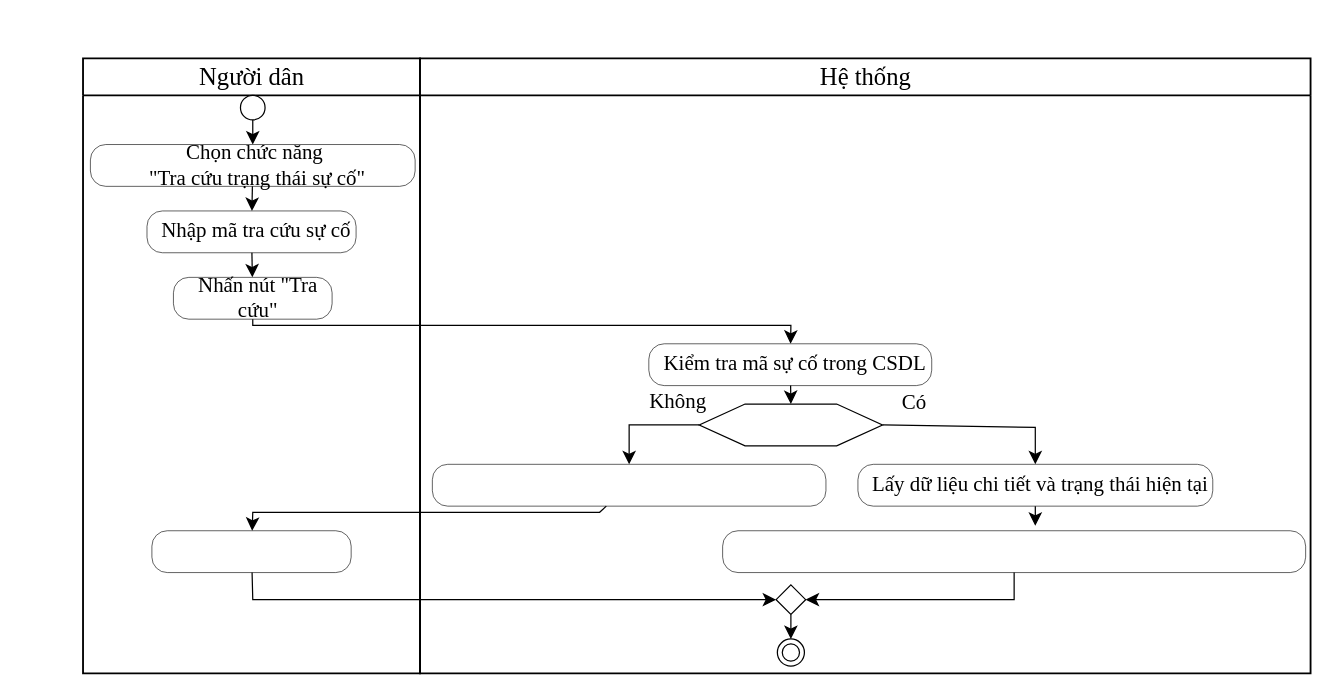
The diagram is 1333 pixels wide and 696 high, and some of its shapes have lost their labels. The shapes that lost their labels are listed below. From the top down, each one's centre as x and y in pixels, then its label:
(x=790, y=424): Mã sự cố tồn tại?
(x=628, y=484): Hiển thị thông báo "Không tìm thấy dữ liệu"
(x=251, y=551): Nhập lại mã tra cứu
(x=1013, y=551): Hiển thị kết quả tra cứu (Chờ duyệt, Đang xử lý, Đã hoàn thành...)
